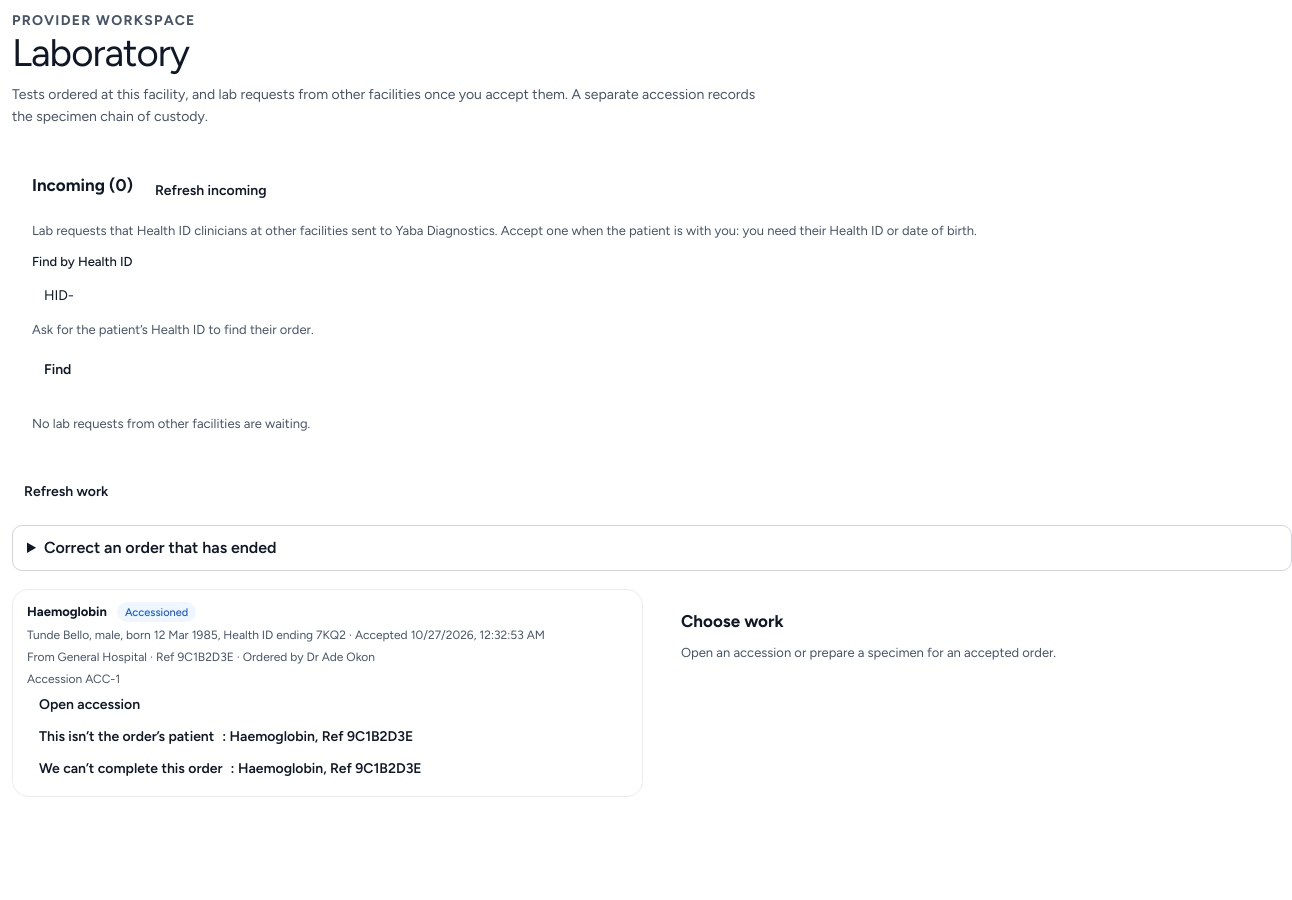
Test: the laboratory’s form › says first that it is not for the wrong person, then what will happen, and asks why, none chosen
This screenshot has width=1292, height=900.
Expected: the text "Haemoglobin" is shown, [27,602,107,622]
Click the button "We can’t complete this order : Haemoglobin, Ref 9C1B2D3E" at (230, 768), box [27,752,434,784]
(page scrolled)
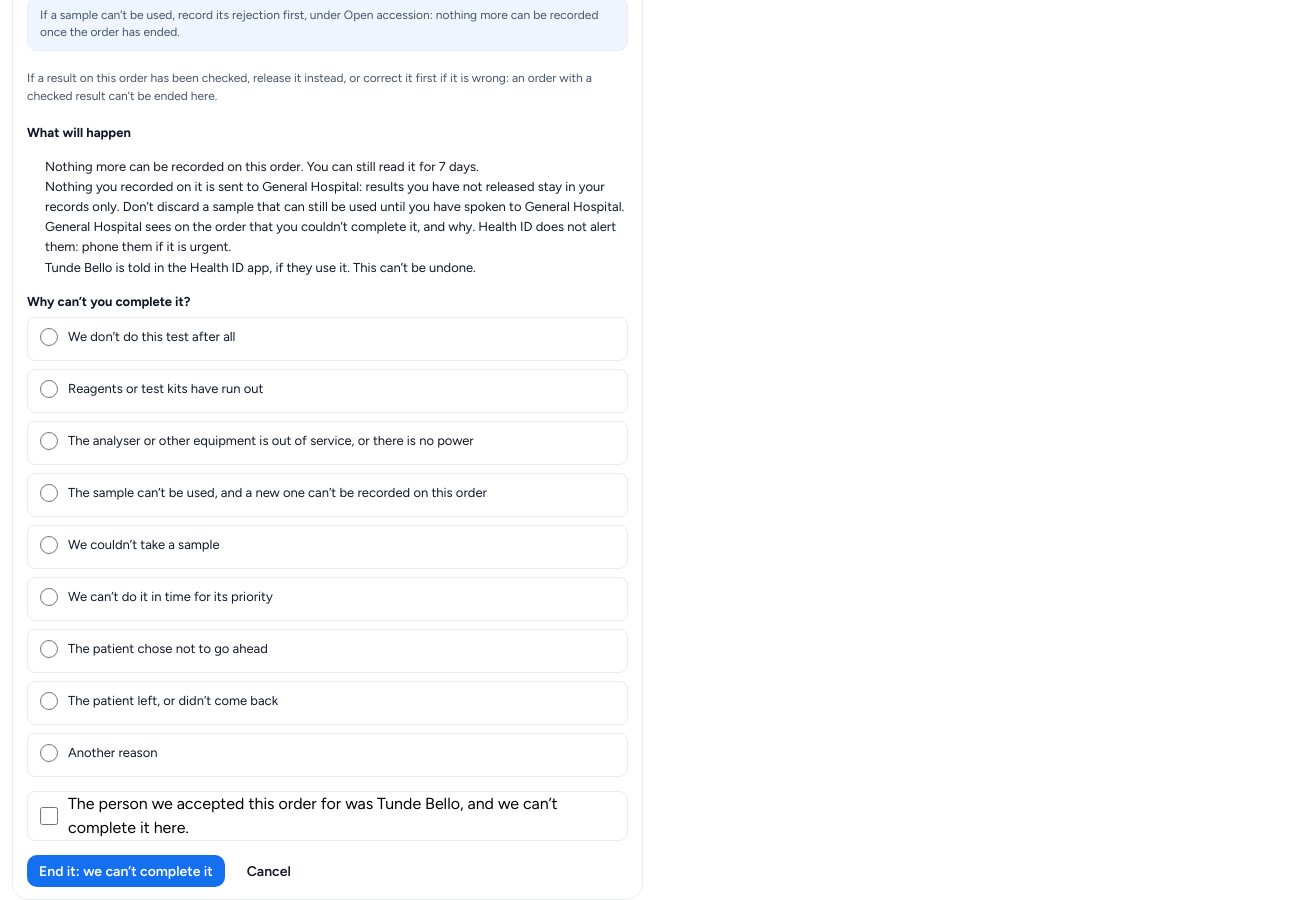
Now the element "Why can’t you complete it?" is shown, box [27,292,628,777]
